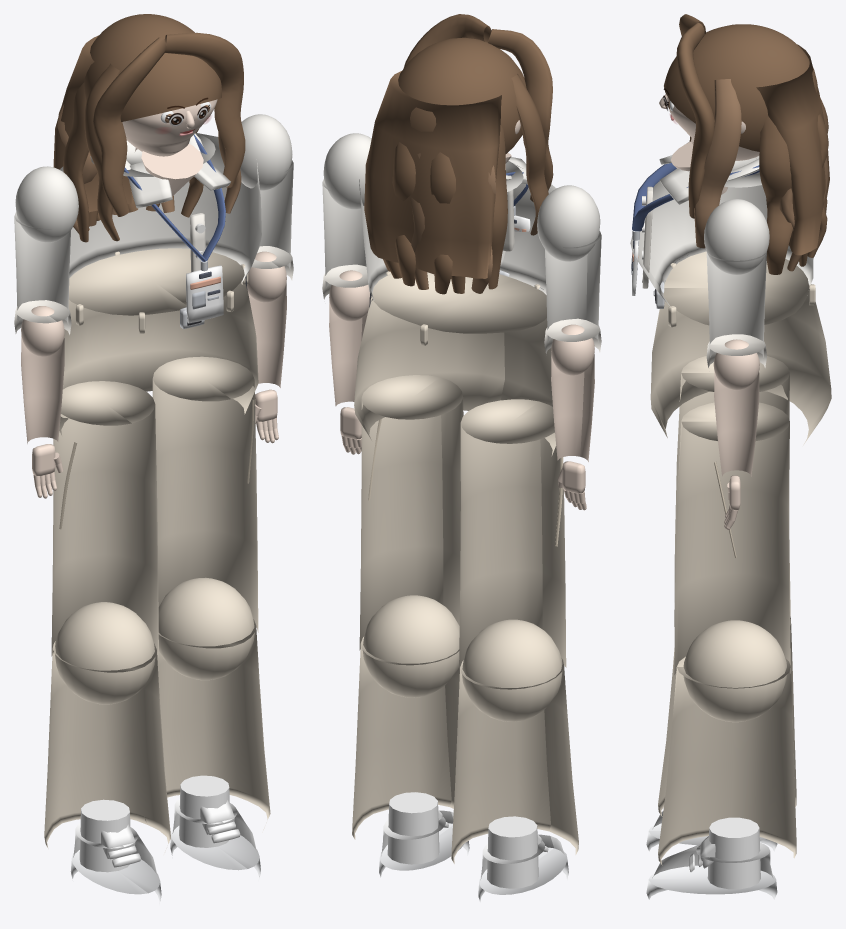
File: claude.glb
3 renders of one model, left to right at view 1: azimuth 30°, elevation 25°; view 2: azimuth 150°, elevation 25°; view 3: azimuth 270°, elevation 25°, orthographic.
Visible parts, largest first — view 1: thigh (×2), calf (×2), pelvis, head, topTorso, legL, legR, hairCrown, forearm (×2), upperSleeve (×2), torso, sole (×2) (+14 smaller); view 2: thigh (×2), calf (×2), pelvis, hairBackCurtain, head, legL, legR, hairCrown, upperSleeve (×2), forearm (×2), armL, topTorso (+10 smaller); view 3: thigh (×2), calf (×2), pelvis, head, legR, hairCrown, hairBackCurtain, topTorso, upperSleeve, armR, forearm, kneeR (+8 smaller).
Boxes of the visible parts, box(x1,y1,x2,y2) form: thigh (×2): box(51, 356, 258, 657); calf (×2): box(44, 619, 270, 852); pelvis: box(59, 248, 258, 435); head: box(57, 32, 245, 242); topTorso: box(59, 133, 261, 283); legL: box(55, 442, 155, 704); legR: box(158, 398, 255, 680); hairCrown: box(84, 14, 221, 121); forearm (×2): box(21, 283, 286, 443); upperSleeve (×2): box(14, 160, 293, 324); torso: box(75, 144, 248, 333); sole (×2): box(70, 826, 260, 904); thigh (×2): box(359, 375, 566, 674); calf (×2): box(352, 637, 578, 863); pelvis: box(354, 272, 556, 455); hairBackCurtain: box(364, 71, 501, 278); head: box(383, 14, 553, 294); legL: box(462, 457, 563, 721); legR: box(362, 419, 459, 697); hairCrown: box(398, 37, 526, 153); upperSleeve (×2): box(322, 179, 601, 342); forearm (×2): box(329, 301, 594, 461); armL: box(537, 185, 600, 261); topTorso: box(359, 161, 556, 300); thigh (×2): box(674, 356, 790, 674); calf (×2): box(658, 616, 796, 865); pelvis: box(650, 251, 831, 445); head: box(667, 14, 828, 274); legR: box(683, 461, 787, 722); hairCrown: box(664, 24, 817, 151); hairBackCurtain: box(756, 44, 829, 255); topTorso: box(630, 142, 813, 305); upperSleeve: box(706, 251, 766, 357); armR: box(704, 199, 769, 274); forearm: box(714, 371, 759, 476); kneeR: box(707, 817, 760, 889).
Bounding box in the file's own units: 0.5619 × 1.69 × 0.3614.
Materials: 24 (1 with a texture image).
